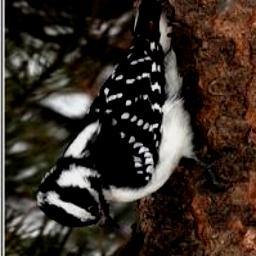Woodpecker: (36, 0, 226, 229)
